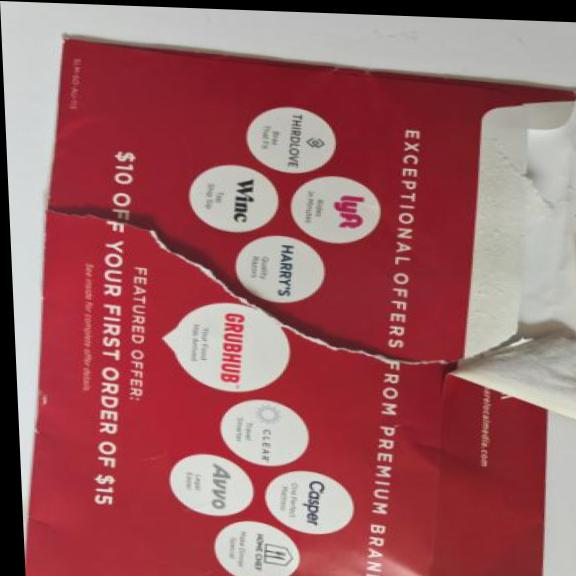Kertas: (1, 33, 576, 576)
